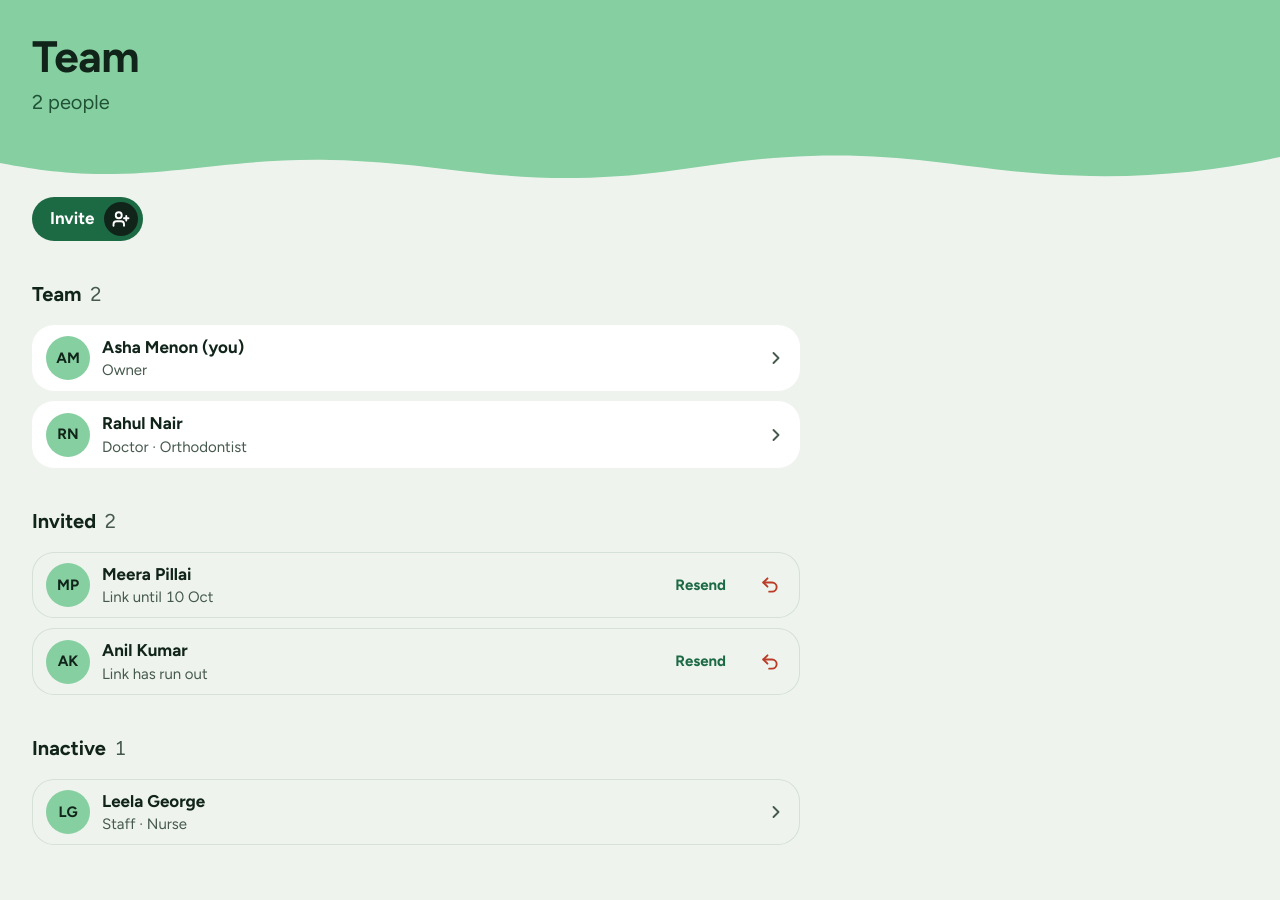
Test: Team (plan §8.4, §8.6) › opens the invite sheet
Click the button "Invite": [88, 219] box x1=32 y1=197 x2=143 y2=241
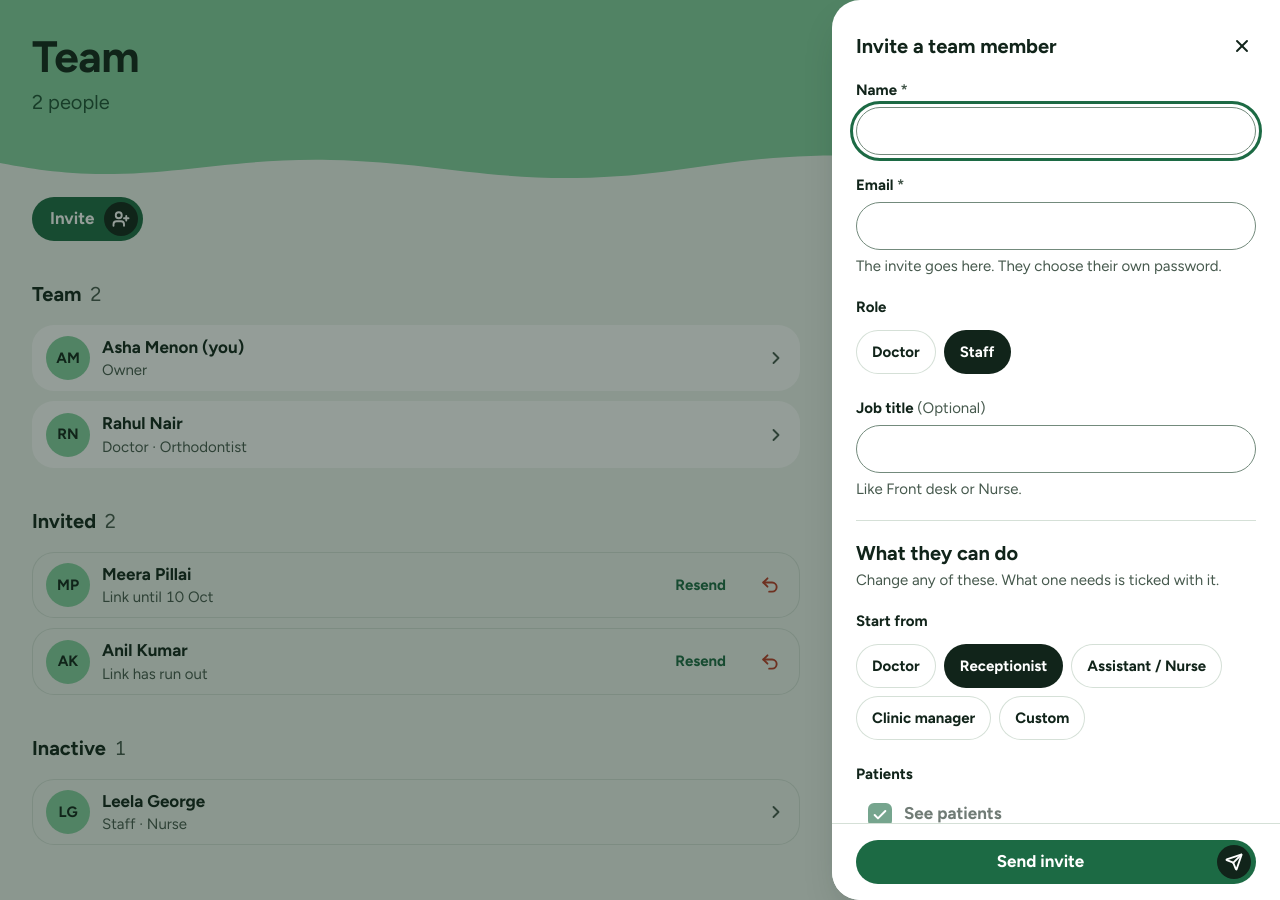
Expected: the dialog "Invite a team member" is shown, x1=832 y1=0 x2=1279 y2=899
Click the button named "Close": [1242, 46] box x1=1220 y1=24 x2=1264 y2=68
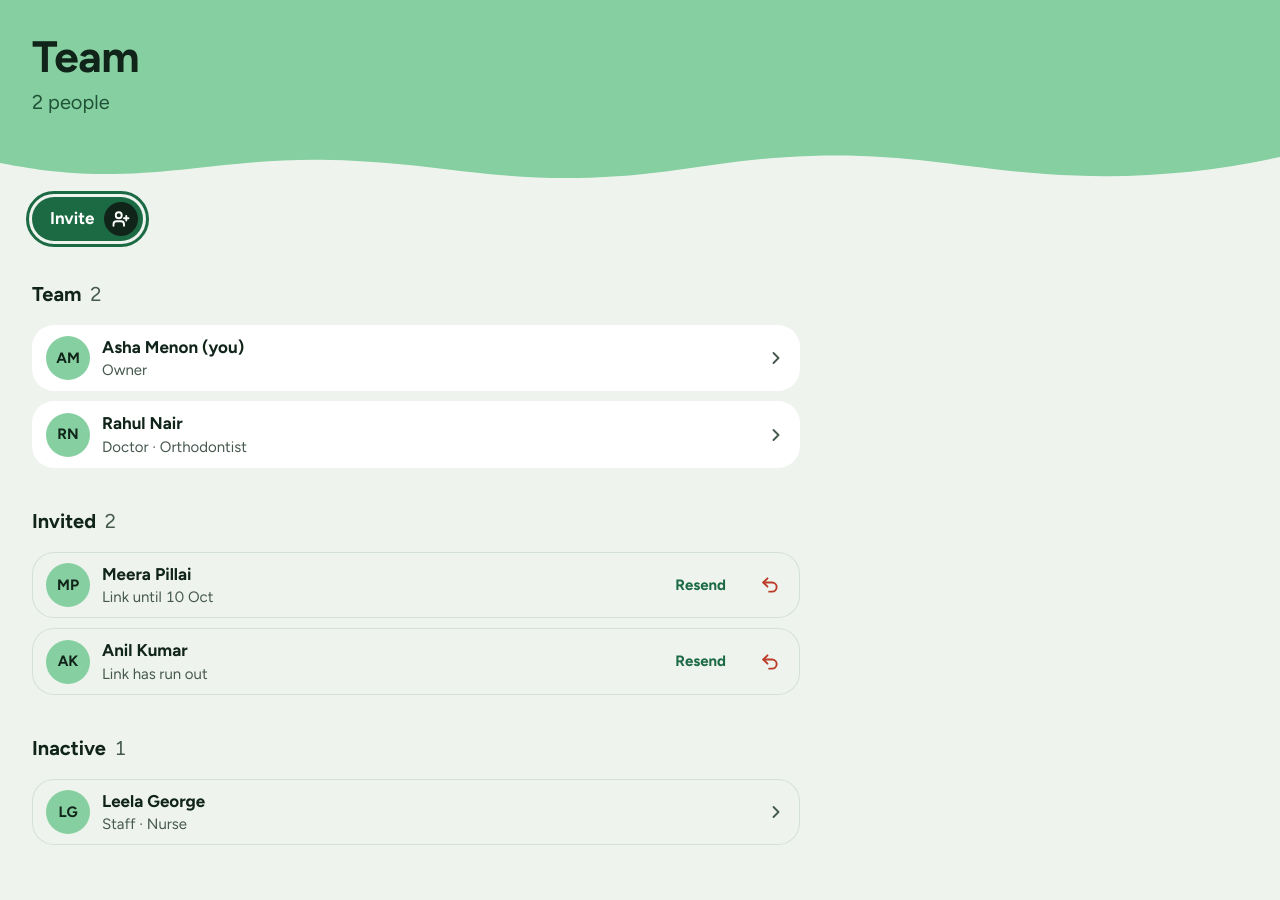
Expected: the dialog is gone
